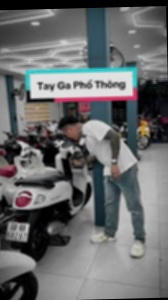Bien-so: (5, 223, 32, 246)
